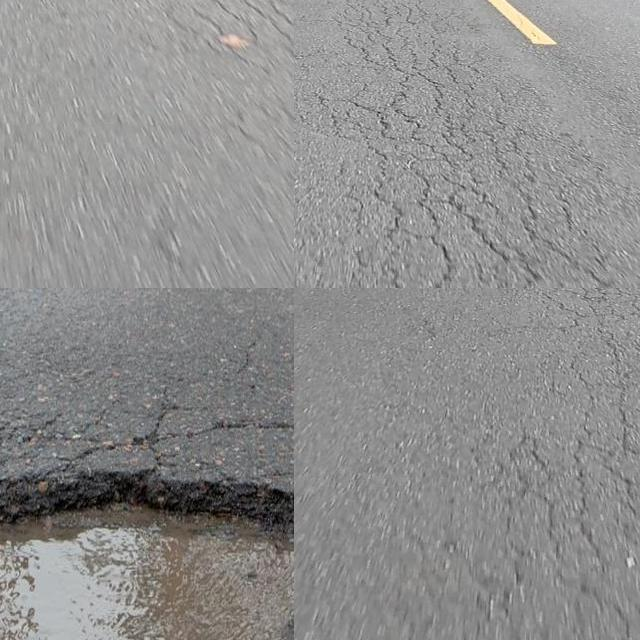Lubang: (0, 452, 294, 640)
Retak Buaya: (362, 0, 628, 288), (480, 400, 640, 640)
